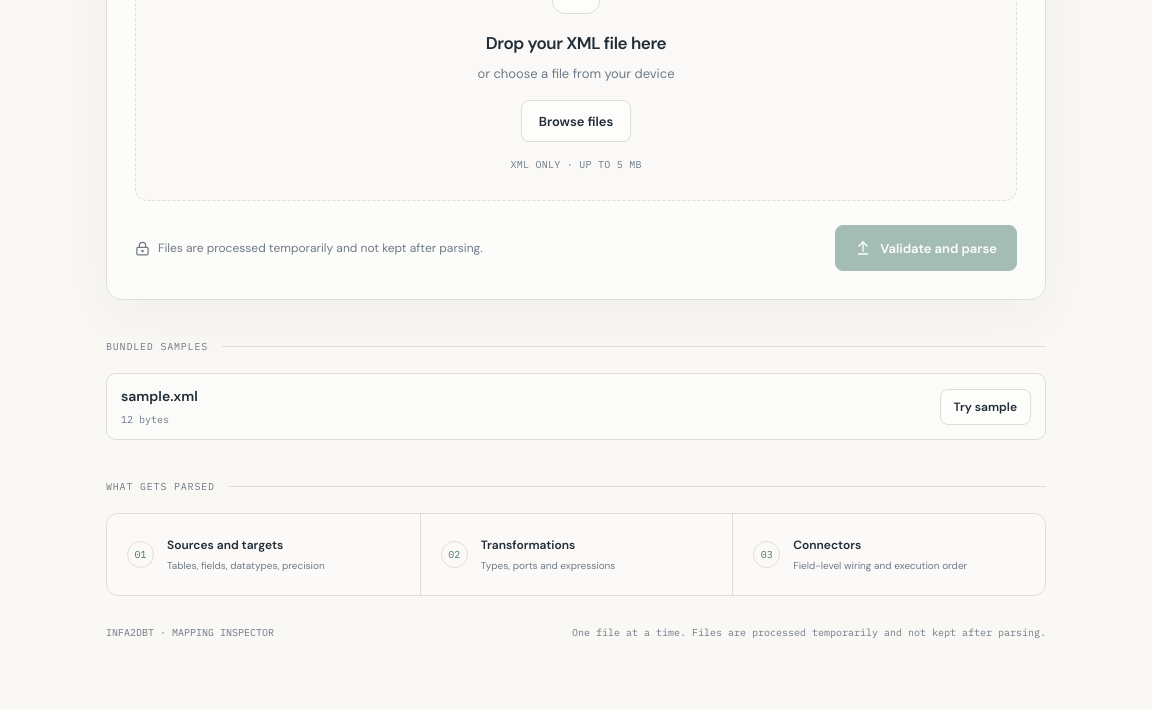
Test: dbt project download › submits the parsed sample and downloads the ZIP
This screenshot has width=1152, height=710.
Later steps or results of the test are not shown.
(page scrolled)
Click the button with test id "button-try-sample-sample.xml". click: {"x": 985, "y": 407}
box: [940,389,1031,425]
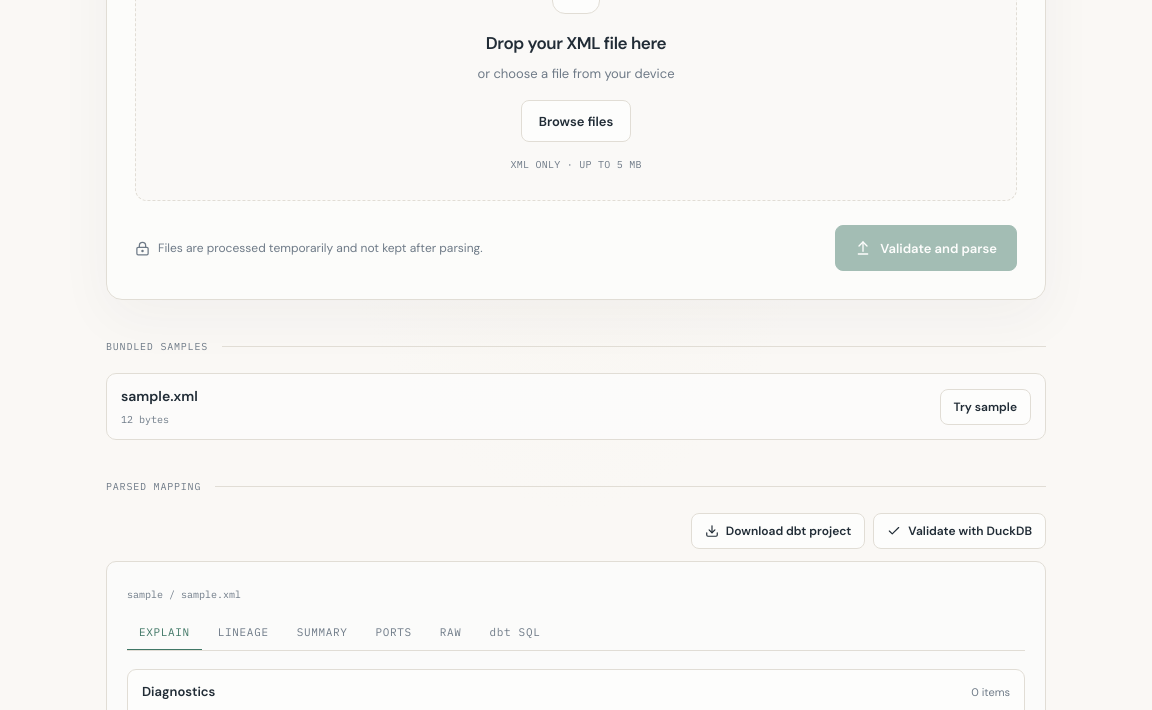
Expected: the button with test id "button-download-dbt-project" is shown, [691,513,865,549]
